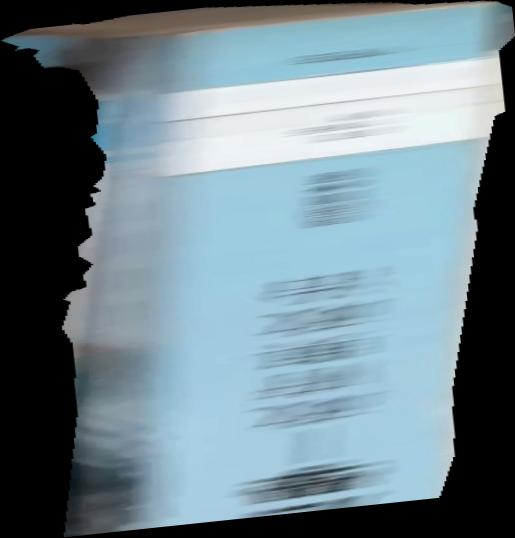reverse: (1, 1, 515, 538)
